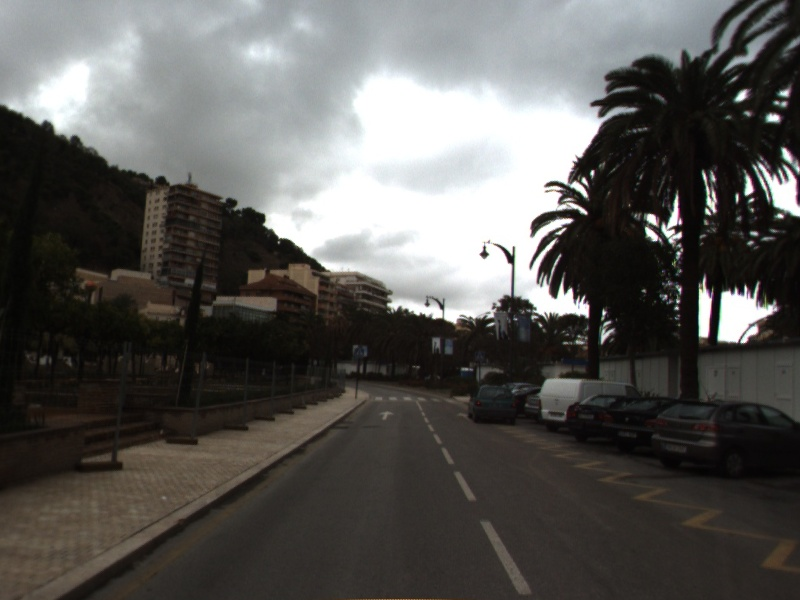STRAIGHT: (455, 411, 477, 425), (377, 408, 396, 422)
